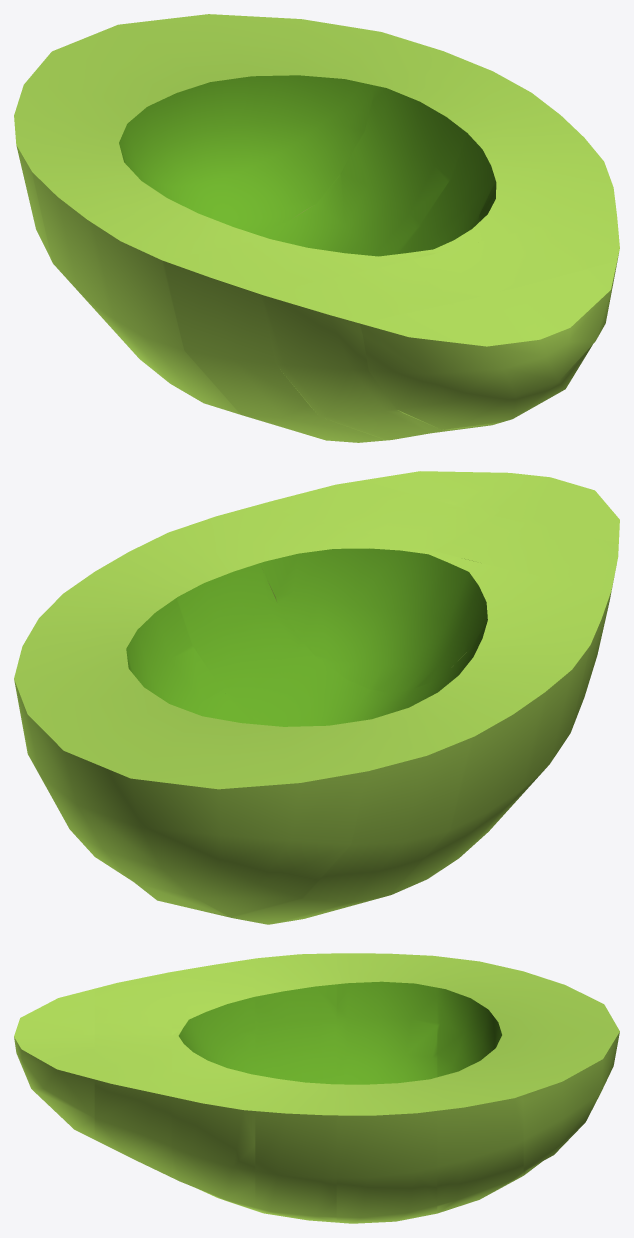
The model's file is Avocado_Half_Pieces.fbx.
3 renders of one model, top to bottom at view 1: azimuth 30°, elevation 25°; view 2: azimuth 150°, elevation 25°; view 3: azimuth 270°, elevation 25°, orthographic. The views are drawn at different scales.
Visible parts, largest first — view 1: Avocado_Half_6, Avocado_Half_5, Avocado_Half_3, Avocado_Half_2, Avocado_Half_1, Avocado_Half_4, Avocado_Half_7; view 2: Avocado_Half_7, Avocado_Half_3, Avocado_Half_4, Avocado_Half_6, Avocado_Half_5, Avocado_Half_2, Avocado_Half_1; view 3: Avocado_Half_5, Avocado_Half_4, Avocado_Half_6, Avocado_Half_3, Avocado_Half_2, Avocado_Half_7, Avocado_Half_1.
Boxes of the visible parts, x1,y1,x2,y2 form: Avocado_Half_6: (14, 29, 470, 261); Avocado_Half_5: (31, 62, 554, 386); Avocado_Half_3: (164, 155, 615, 442); Avocado_Half_2: (260, 207, 619, 440); Avocado_Half_1: (359, 261, 616, 429); Avocado_Half_4: (93, 110, 598, 440); Avocado_Half_7: (14, 14, 365, 115); Avocado_Half_7: (16, 685, 367, 916); Avocado_Half_3: (158, 505, 610, 731); Avocado_Half_4: (88, 538, 590, 851); Avocado_Half_6: (14, 631, 470, 924); Avocado_Half_5: (32, 576, 548, 919); Avocado_Half_2: (256, 480, 618, 660); Avocado_Half_1: (362, 471, 619, 542); Avocado_Half_5: (336, 953, 437, 1223); Avocado_Half_4: (255, 953, 336, 1222); Avocado_Half_6: (437, 956, 523, 1213); Avocado_Half_3: (171, 958, 255, 1210); Avocado_Half_2: (94, 972, 171, 1177); Avocado_Half_7: (523, 971, 619, 1175); Avocado_Half_1: (14, 988, 94, 1139).
Size of the model in its own units: 92.91 by 45.09 by 146.
